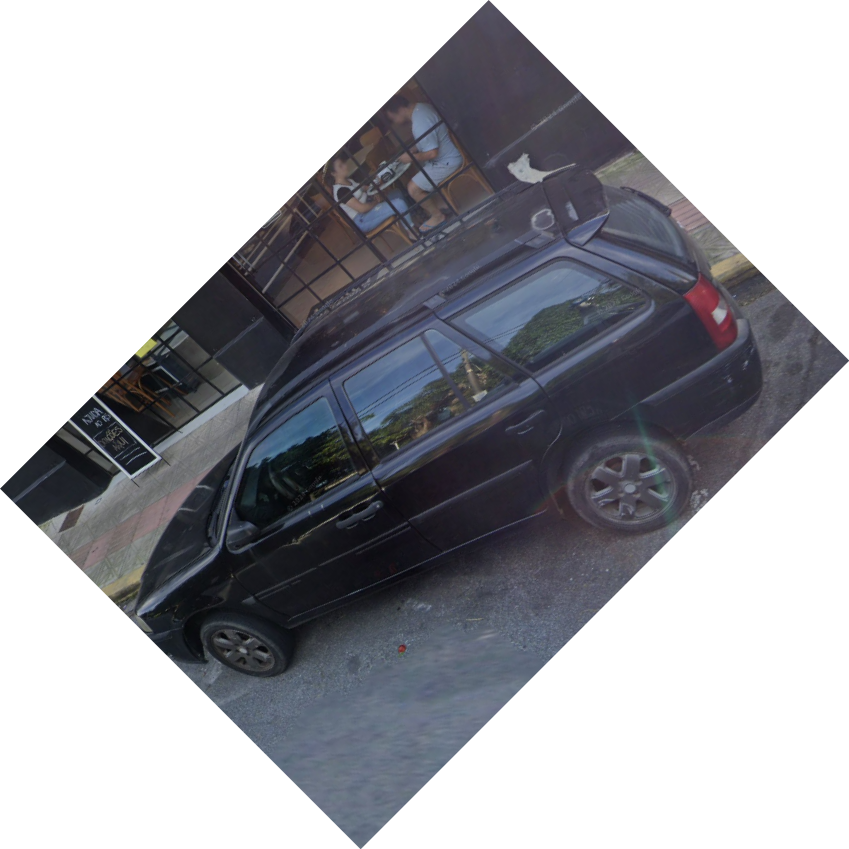car: (135, 162, 767, 679)
